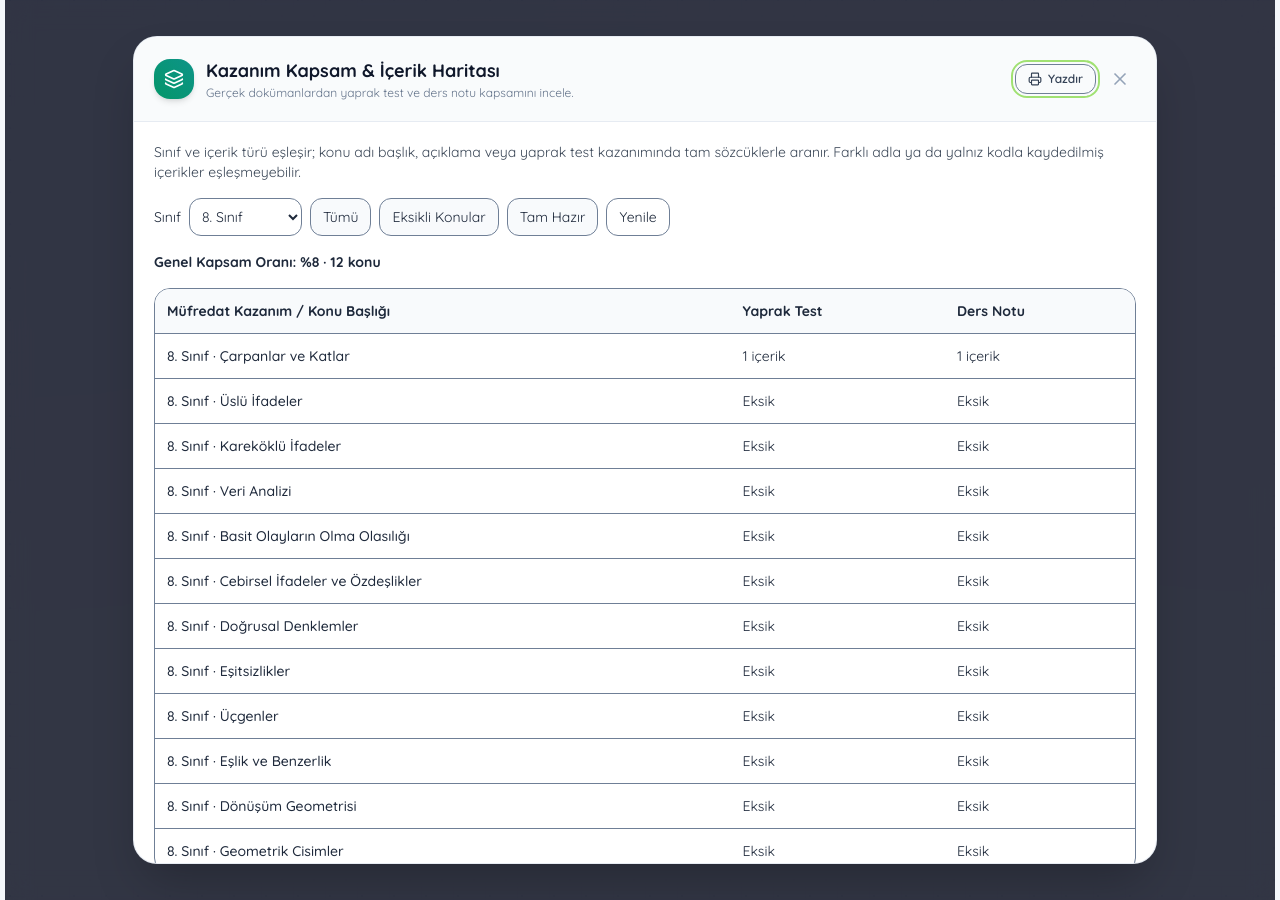
CurriculumCoverageMatrixModal › switches grade and filters topics using actual content
Expected: the text "Genel Kapsam Oranı: %8 · 12 konu" is shown, [154,253,381,271]
Click the button "Tam Hazır" at (552, 217), box [507,198,598,236]
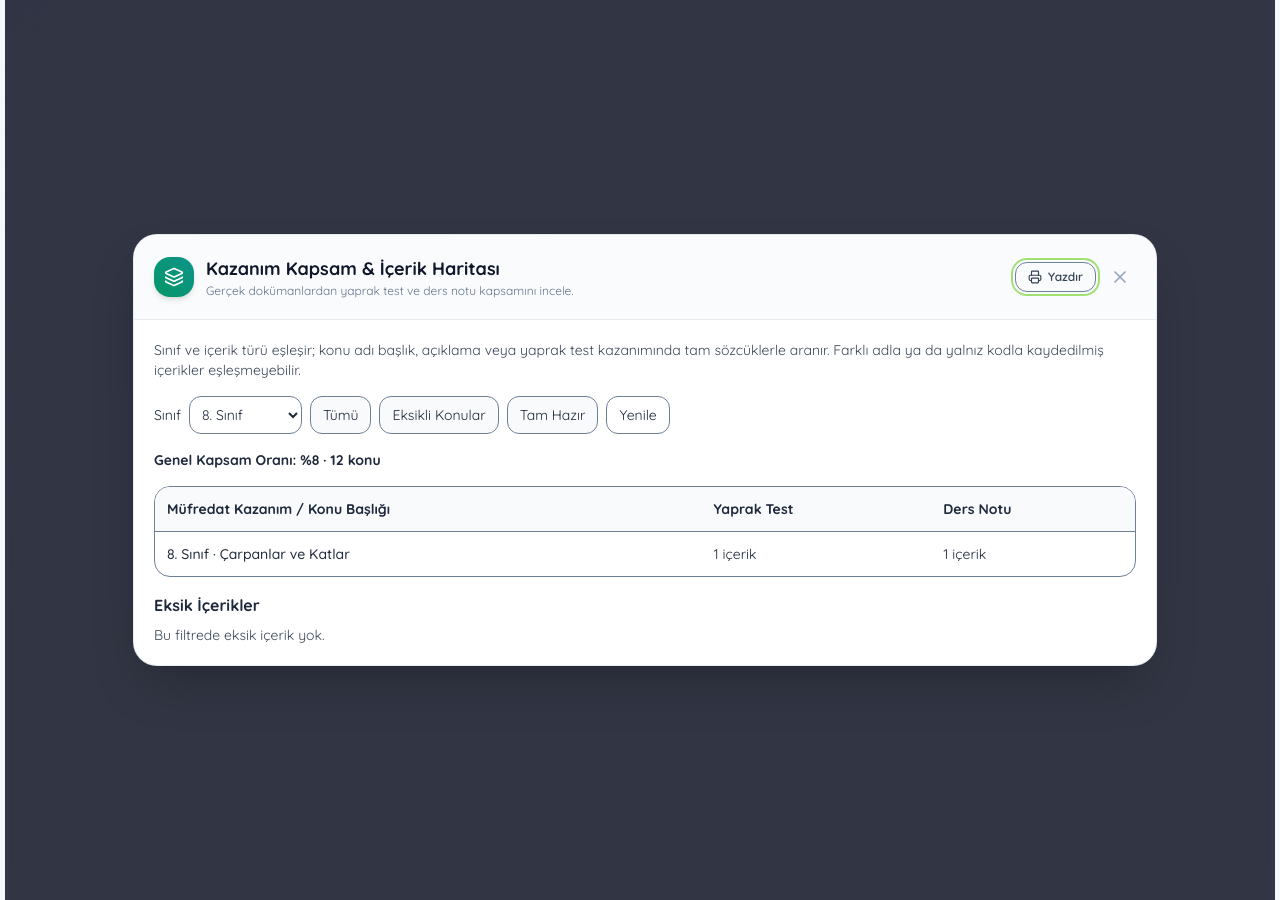
Expected: the column heading "8. Sınıf · Çarpanlar ve Katlar" is shown, [155,532,702,576]
Now the column heading "8. Sınıf · Kareköklü İfadeler" is gone
Click the button "Eksikli Konular" at (439, 415), box [380,396,499,434]
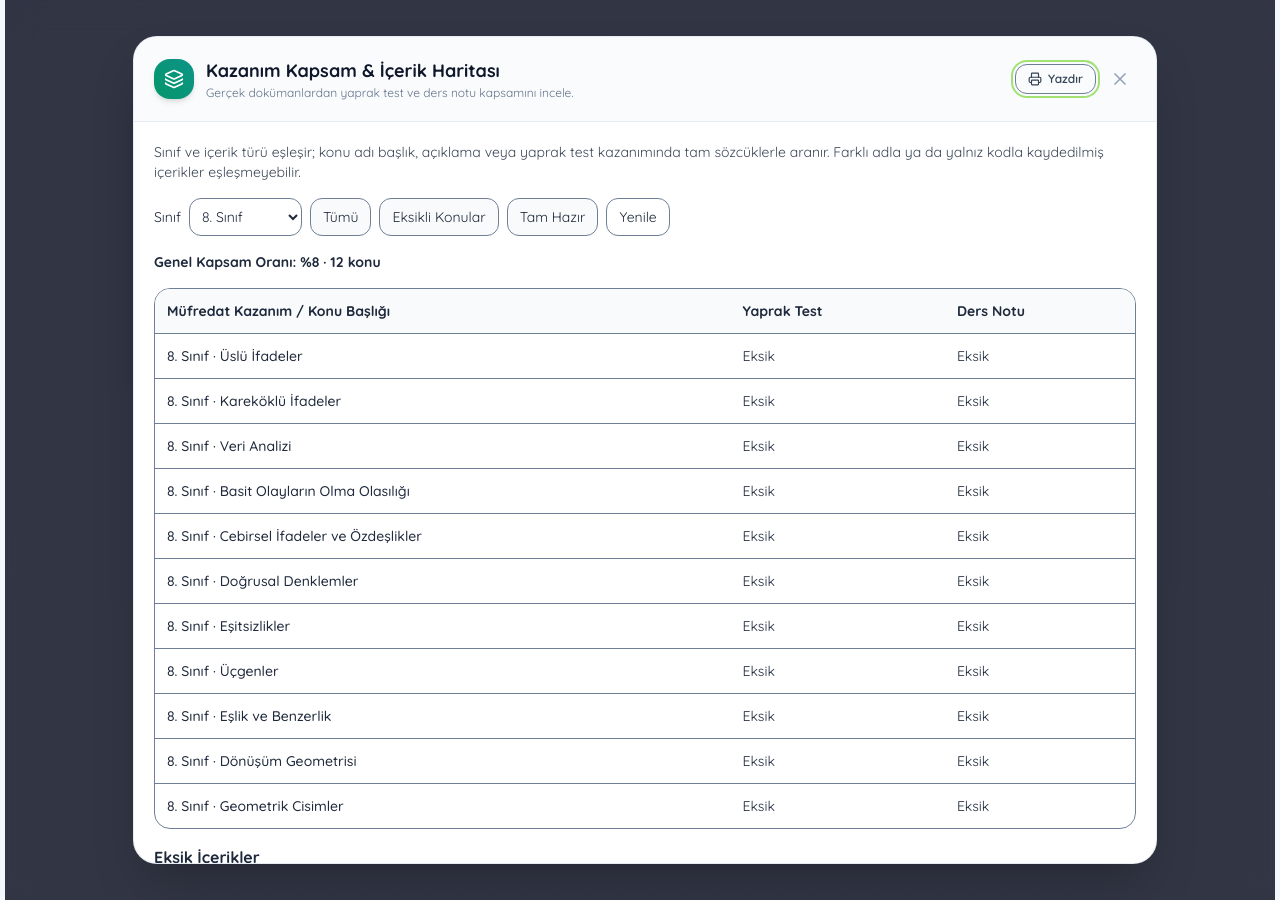
Now the column heading "8. Sınıf · Çarpanlar ve Katlar" is gone
Select "5. Sınıf" in the dropdown labelled "Sınıf" at (246, 217), box [189,198,302,236]
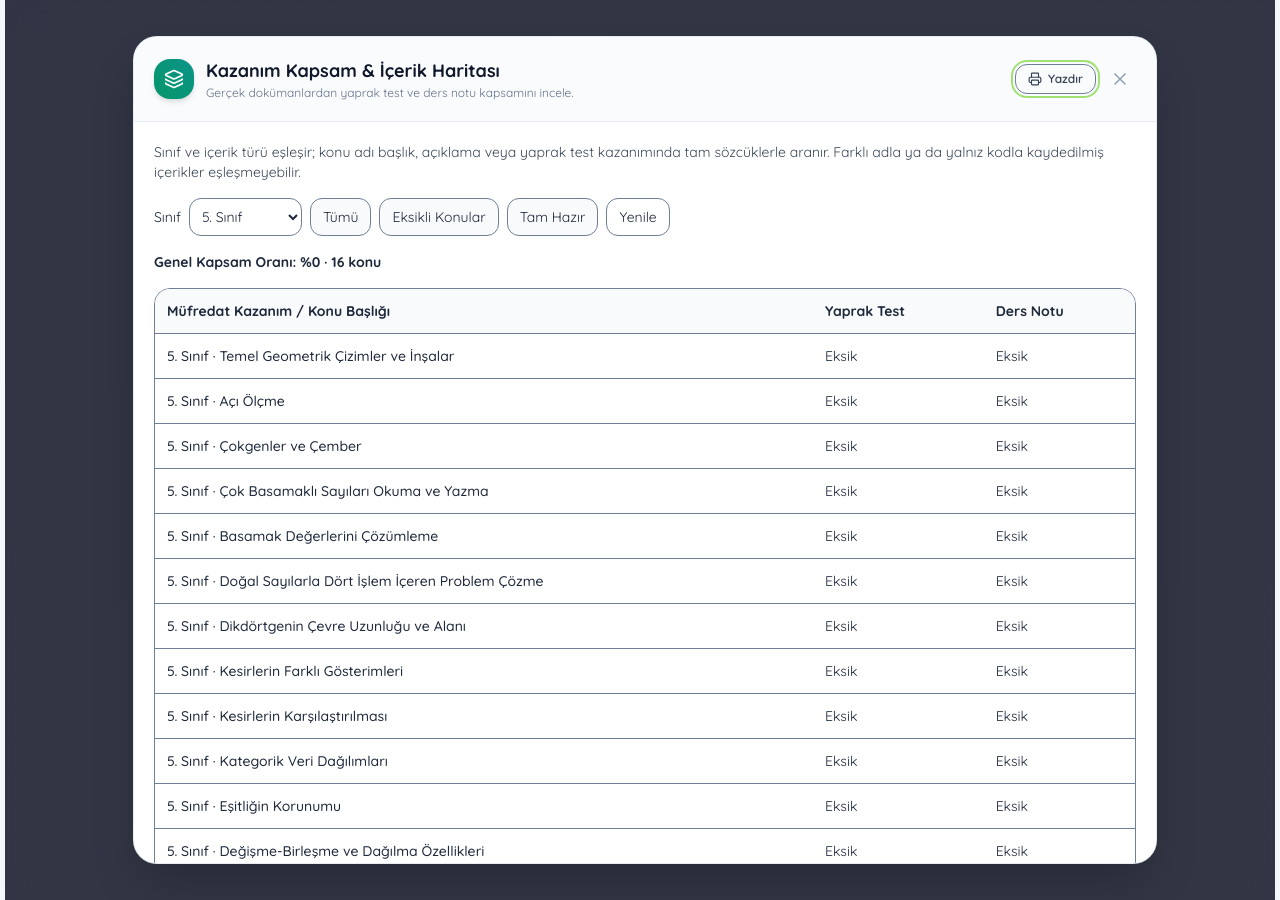
Now the column heading "5. Sınıf · Temel Geometrik Çizimler ve İnşalar" is shown, box [155,334,813,378]
